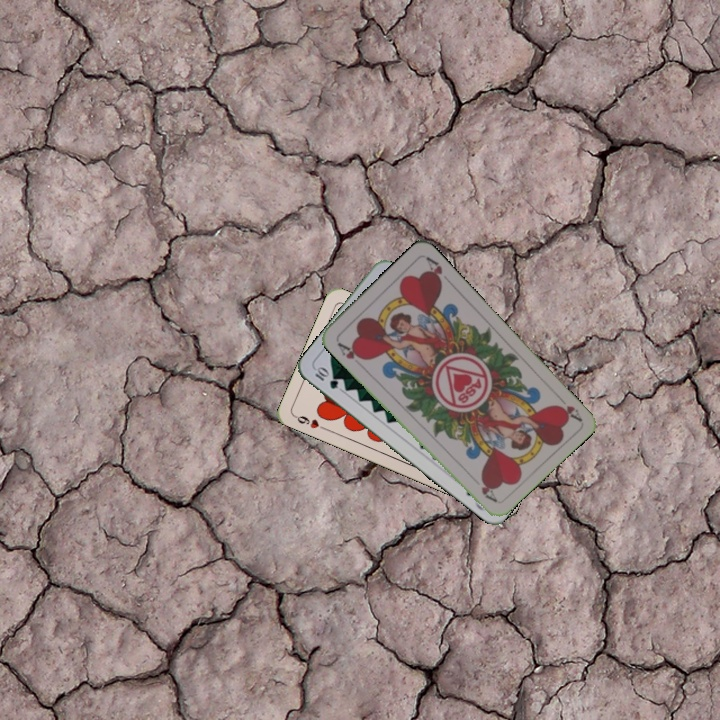G10: (311, 363, 341, 392)
H9: (291, 411, 329, 433)
HA: (552, 390, 584, 423), (333, 338, 368, 363)
